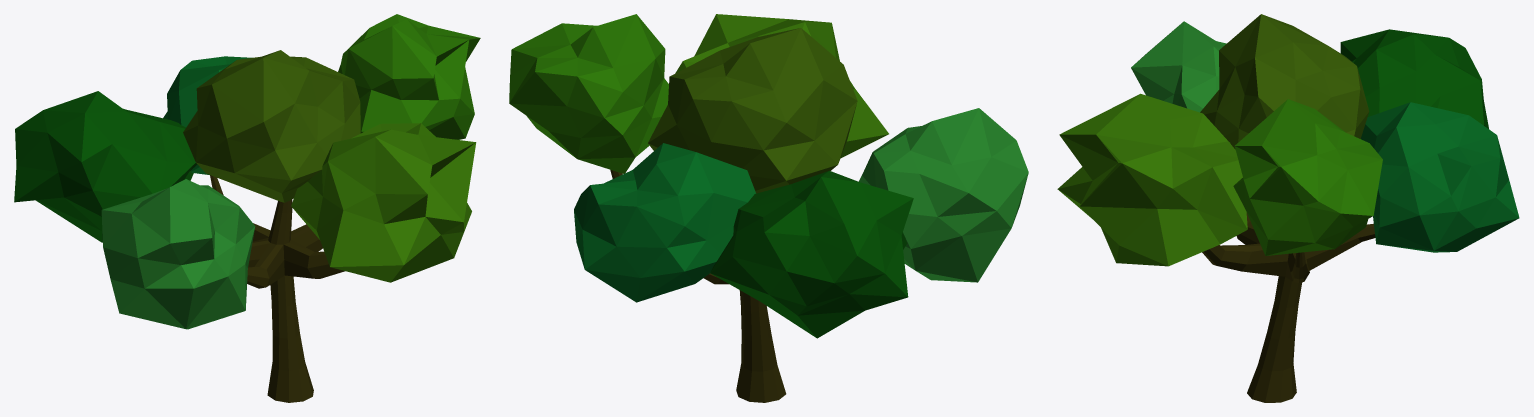
The model's file is tree.glb.
3 renders of one model, left to right at view 1: azimuth 30°, elevation 25°; view 2: azimuth 150°, elevation 25°; view 3: azimuth 270°, elevation 25°, orthographic. The views are drawn at different scales.
Parts seen in each view (by area): view 1: Icosphere004, Icosphere, Icosphere002, Icosphere001, Icosphere003, Cylinder, Icosphere005; view 2: Icosphere001, Icosphere, Icosphere005, Icosphere002, Icosphere003, Icosphere004, Cylinder; view 3: Icosphere004, Icosphere005, Icosphere003, Icosphere, Icosphere001, Cylinder, Icosphere002.
Boxes of the visible parts, box(x1,y1,x2,y2) form: Icosphere004: box(291, 123, 476, 282); Icosphere: box(183, 50, 360, 202); Icosphere002: box(101, 179, 255, 329); Icosphere001: box(14, 91, 197, 242); Icosphere003: box(338, 14, 480, 139); Cylinder: box(210, 175, 344, 402); Icosphere005: box(163, 56, 252, 174); Icosphere001: box(710, 170, 913, 338); Icosphere: box(648, 28, 857, 193); Icosphere005: box(574, 143, 755, 302); Icosphere002: box(859, 108, 1028, 282); Icosphere003: box(509, 14, 668, 173); Icosphere004: box(675, 14, 888, 158); Cylinder: box(610, 170, 786, 402); Icosphere004: box(1057, 93, 1247, 266); Icosphere005: box(1361, 102, 1519, 252); Icosphere003: box(1233, 99, 1382, 255); Icosphere: box(1200, 14, 1369, 149); Icosphere001: box(1340, 29, 1488, 128); Cylinder: box(1202, 213, 1375, 402); Icosphere002: box(1131, 21, 1226, 112).
Size of the model in its own units: 40.59 by 32 by 36.99.
